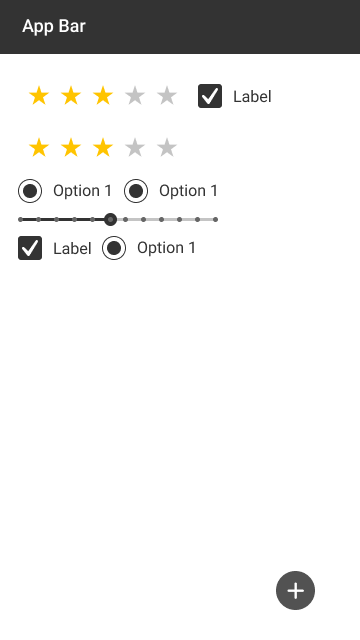checkBox: (195, 81, 272, 111), (16, 234, 93, 262)
floatingButton: (273, 569, 318, 613)
radioButton: (121, 176, 219, 203), (14, 176, 112, 202), (103, 235, 198, 260)
ratingBar: (29, 82, 178, 111), (27, 134, 184, 160)
slider: (16, 213, 223, 227)
toolbar: (2, 1, 360, 56)
